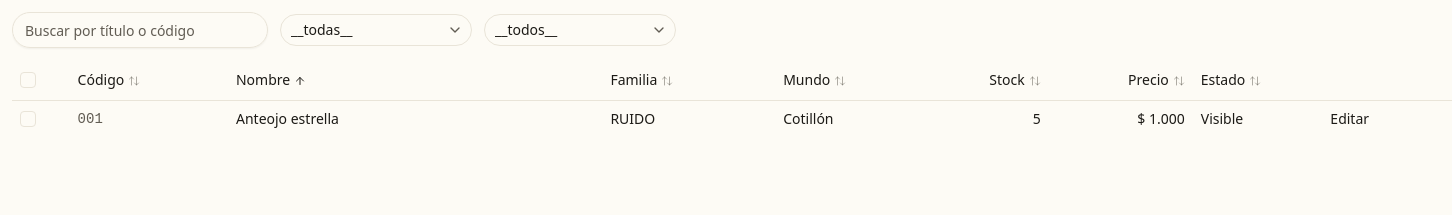
Test: PublicadoTab — lote: ajustar precio › sube el precio del código según el porcentaje, redondeado
Expected: the row "001 Anteojo estrella RUIDO Cotillón 5 $ 1.000 Visible Editar" is shown, [12,100,1451,136]
Click the checkbox named "Seleccionar Anteojo estrella".
click(28, 118)  # box [20,110,36,126]
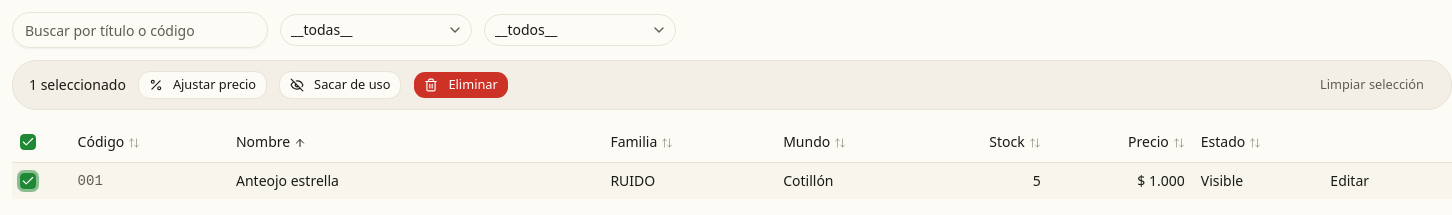
Click the button "Ajustar precio".
click(202, 85)  # box [138,71,267,99]
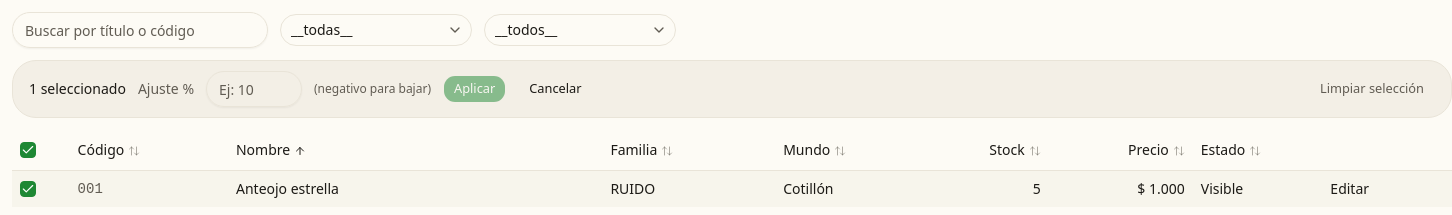
Type "10" into the number field with placeholder "Ej: 10".
click(254, 89); type("10")  # box [206,71,302,107]
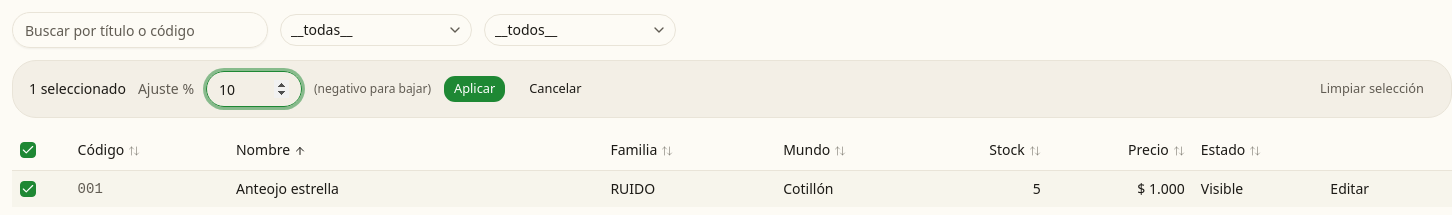
Click the button "Aplicar".
click(475, 89)  # box [443,75,506,103]
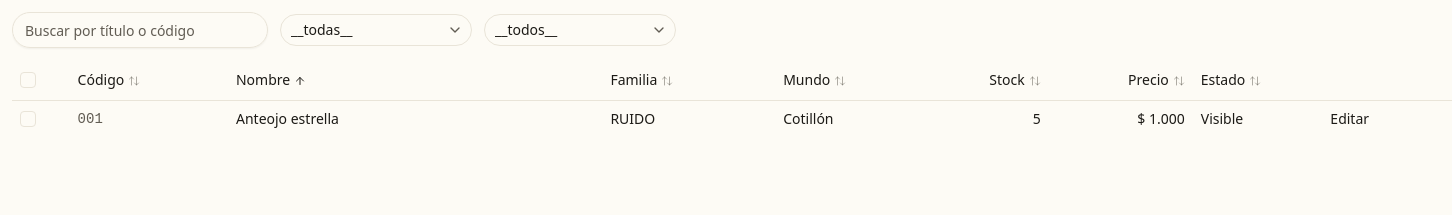
Expected: the text "seleccionado" is gone
